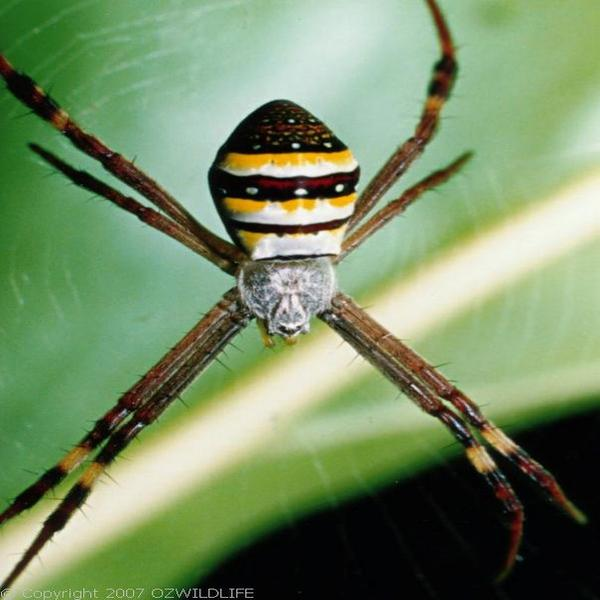St Andrew's Cross Spider: (9, 32, 563, 570)
